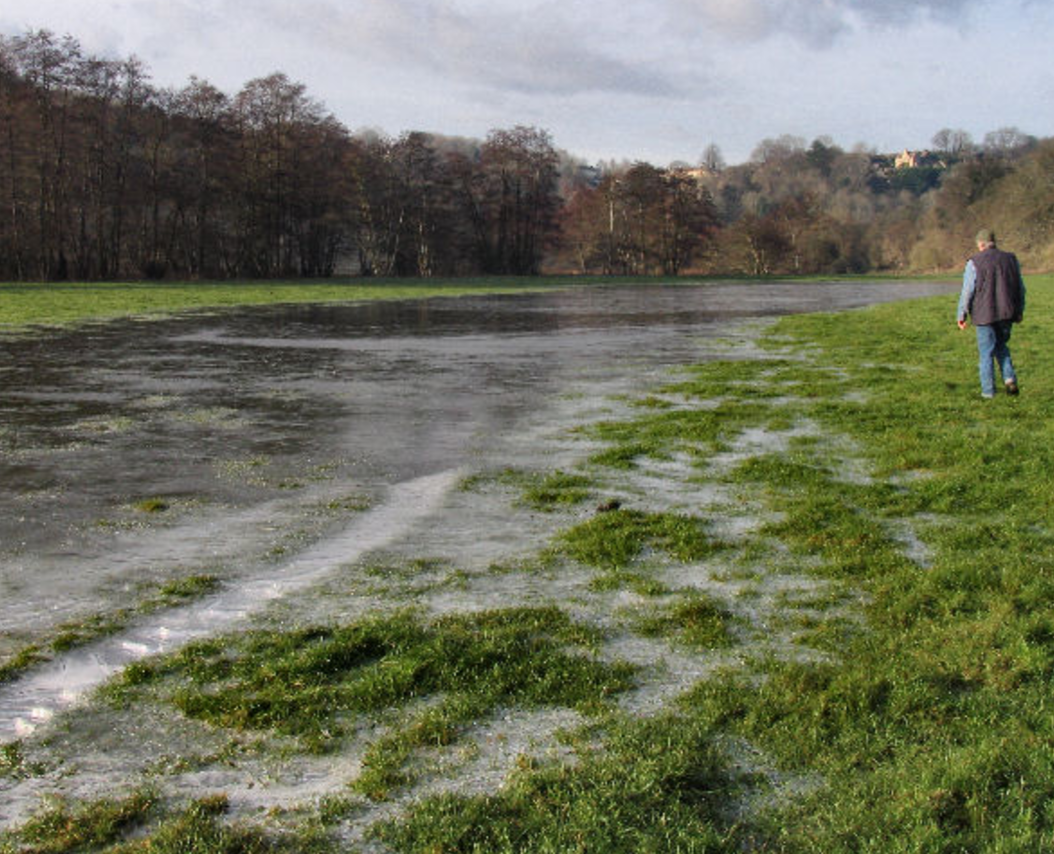grass: (933, 448, 1054, 782), (352, 618, 573, 696)
person: (948, 225, 1037, 398)
sky: (1, 1, 1054, 173)
water: (1, 281, 933, 838)
